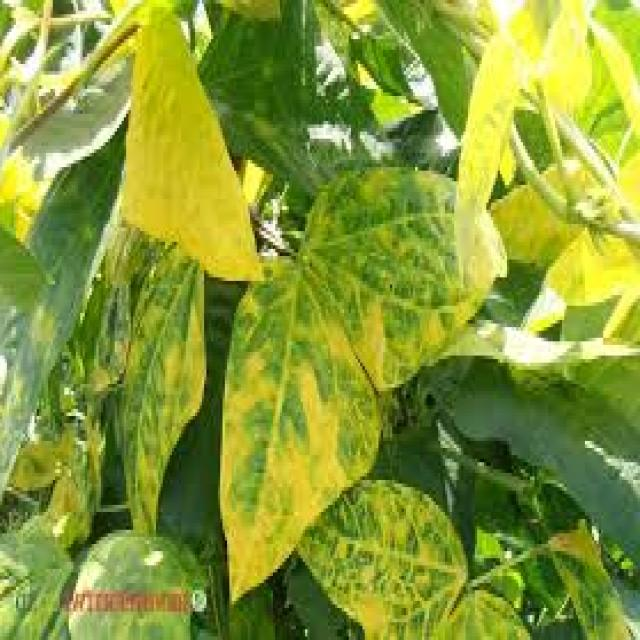virus_kuning: (216, 230, 378, 608), (96, 40, 264, 298)
